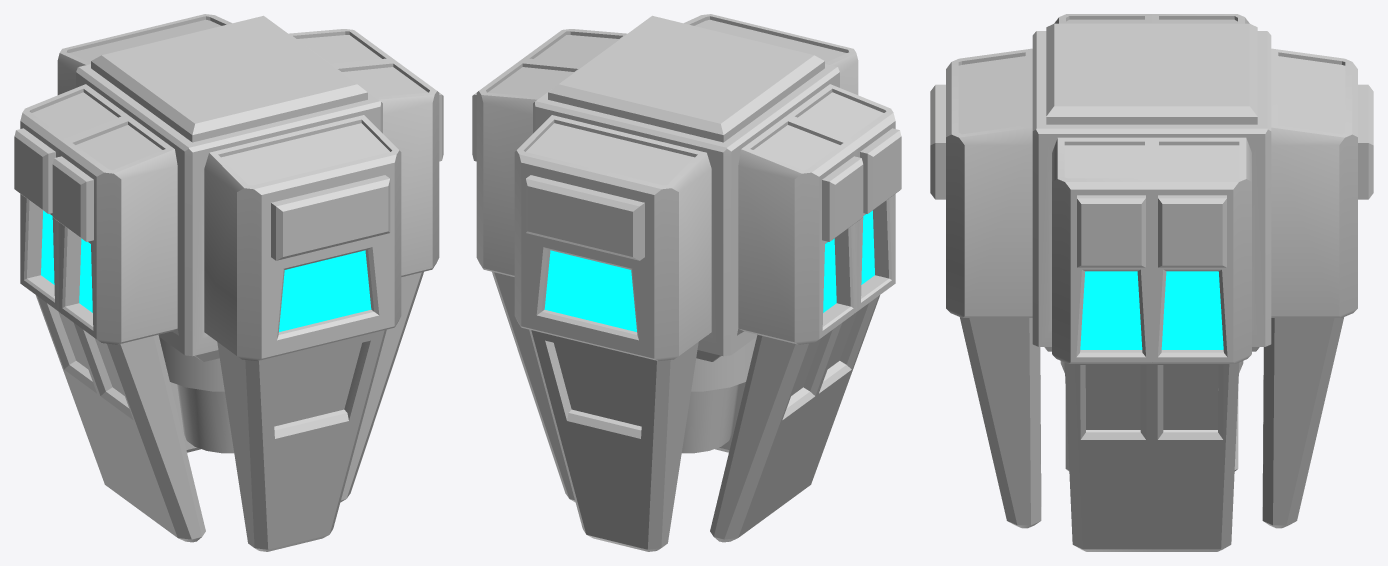
File: LaserMiner.fbx
3 views of the same model, side by side, from view 1: azimuth 30°, elevation 25°; view 2: azimuth 150°, elevation 25°; view 3: azimuth 270°, elevation 25° (orthographic). The views are drawn at different scales.
Visible parts, largest first — view 1: Cube; view 2: Cube; view 3: Cube.
Boxes of the visible parts, bbox=[...] form: Cube: bbox=[14, 14, 443, 551]; Cube: bbox=[472, 14, 901, 551]; Cube: bbox=[930, 14, 1373, 551].
Bounding box in the file's own units: 5345 × 6037 × 5430.
